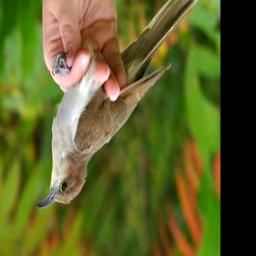Cuckoo: (36, 0, 214, 214)
